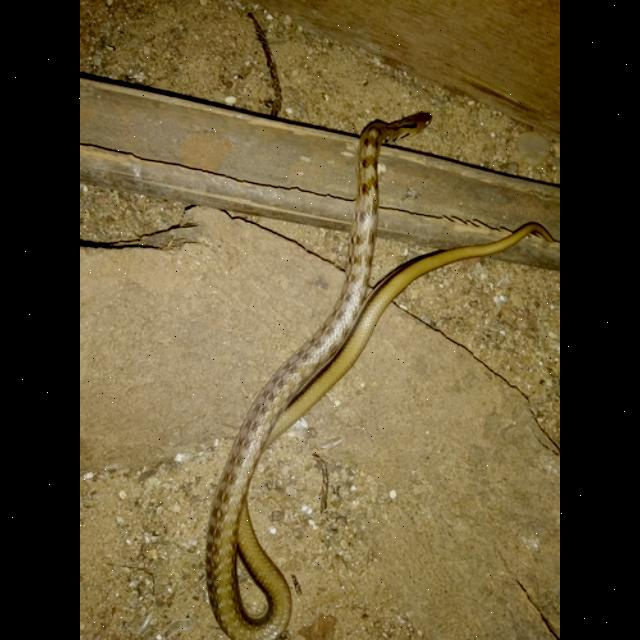snake: (198, 104, 540, 640)
